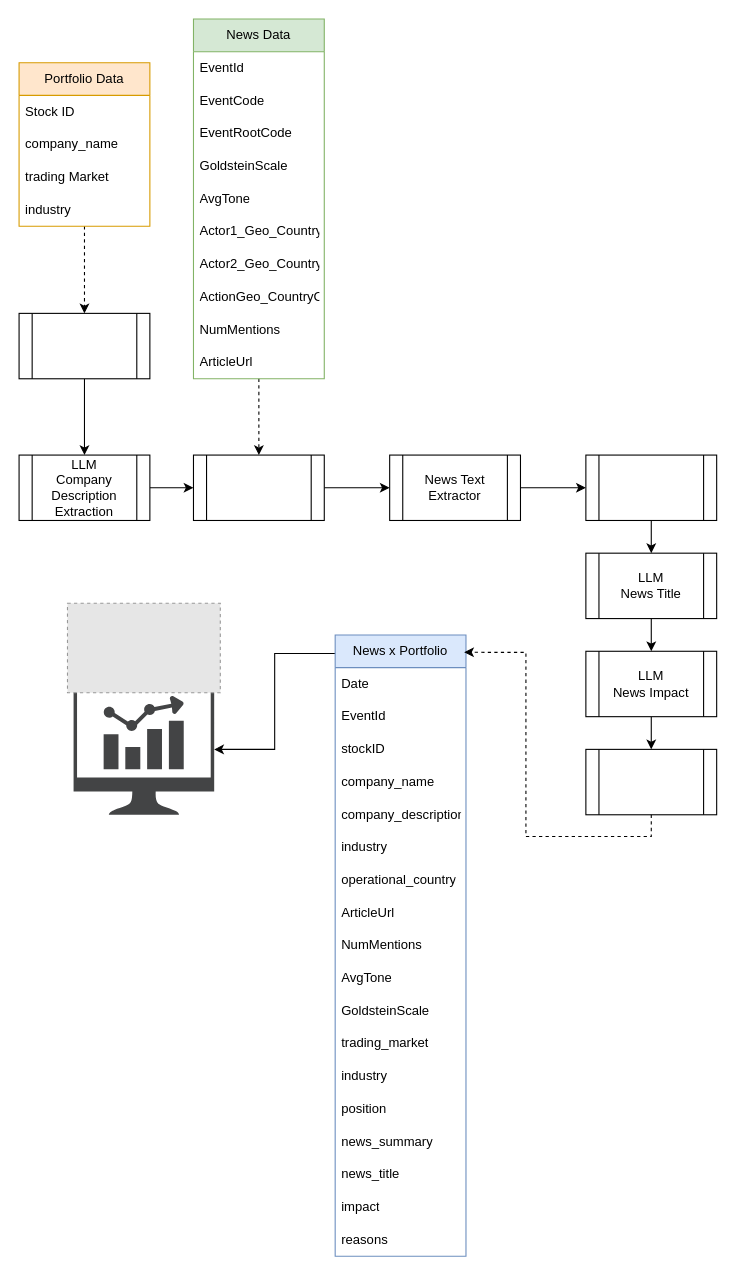
Some shapes in this 736 by 1275 pixel diagram are drawn without their labels. Grey dashed boxes stand in for pictures. The shapes that lost their labels are listed below. From the top down, each one's centre as x and y in pixels, then its label:
At [84,345]: "LLM Operational Countries Extraction".
At [258,487]: "Content Matching & Filtering".
At [651,487]: "LLM News Summary".
At [651,781]: "LLM News Impact Explanation - Reasons".
